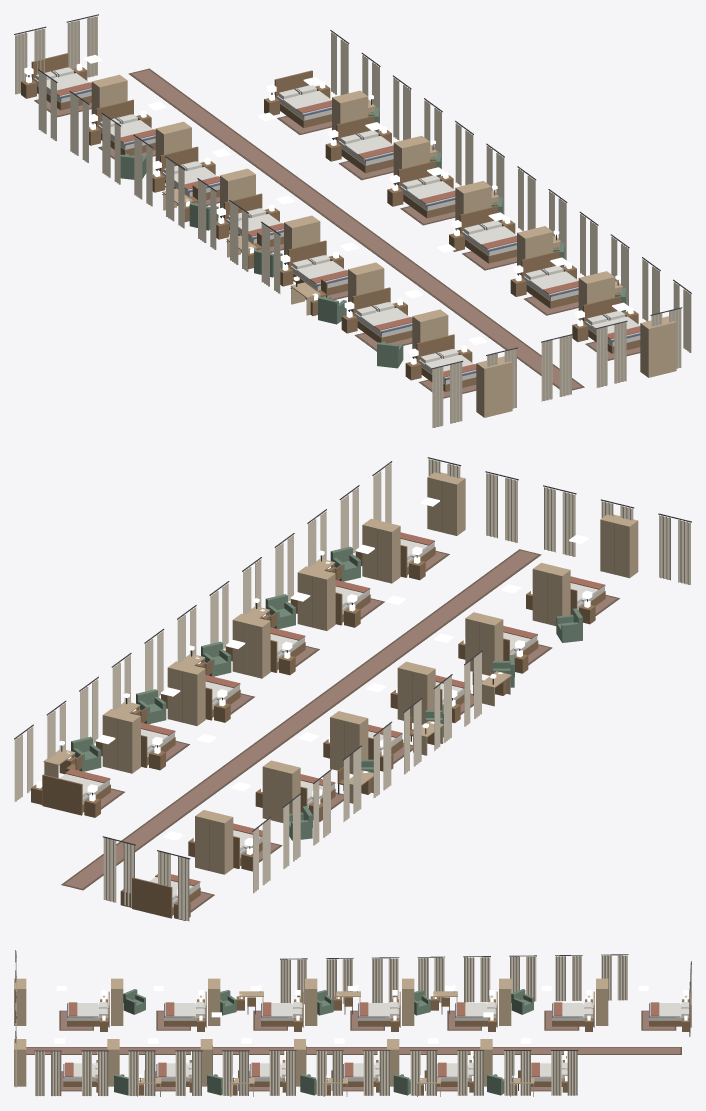
Rendered from fine-s3.glb.
3 renders of one model, top to bottom at view 1: azimuth 30°, elevation 25°; view 2: azimuth 150°, elevation 25°; view 3: azimuth 270°, elevation 25°, orthographic. The views are drawn at different scales.
Parts seen in each view (by area): view 1: soft-s3, dresser.031, dresser.038, bed-frame.037, bed-frame.027, bed-frame.030, bed-frame.028, bed-frame.026, bed-frame.029, bed-frame.036, bed-frame.038, dresser.030 (+17 smaller); view 2: soft-s3, dresser.032, dresser.038, dresser.026, dresser.029, dresser.027, dresser.028, dresser.030, dresser.031, dresser.037, dresser.036, dresser.033 (+10 smaller); view 3: soft-s3, dresser.031, dresser.032, dresser.033, dresser.034, dresser.035, dresser.037, dresser.038, dresser.036, dresser.030, dresser.029, dresser.028 (+20 smaller).
Part boxes in pixels (x1,y1,x2,y2): soft-s3: (14,14,691,427); dresser.031: (640,316,676,377); dresser.038: (476,356,512,417); bed-frame.037: (352,287,412,343); bed-frame.027: (336,115,393,173); bed-frame.030: (521,251,578,308); bed-frame.028: (398,160,455,218); bed-frame.026: (274,70,331,127); bed-frame.029: (459,206,516,263); bed-frame.036: (288,240,347,296); bed-frame.038: (416,334,476,391); dresser.030: (578,271,614,320); soft-s3: (14,457,691,921); dresser.032: (195,810,233,874); dresser.038: (600,514,638,578); dresser.026: (102,709,140,773); dresser.029: (297,566,335,630); dresser.027: (167,661,205,725); dresser.028: (232,613,270,678); dresser.030: (362,518,400,583); dresser.031: (427,472,465,535); dresser.037: (532,562,570,625); dresser.036: (465,612,503,675); dresser.033: (262,760,300,822); soft-s3: (15,950,691,1096); dresser.031: (14,1039,26,1086); dresser.032: (596,978,608,1025); dresser.033: (499,978,511,1025); dresser.034: (402,978,414,1025); dresser.035: (305,978,317,1025); dresser.037: (111,978,123,1025); dresser.038: (14,978,26,1025); dresser.036: (208,978,220,1025); dresser.030: (107,1039,119,1086); dresser.029: (200,1039,212,1086); dresser.028: (294,1039,306,1086).
Bounding box in the file's own units: 11.66 × 2.51 × 33.19.
